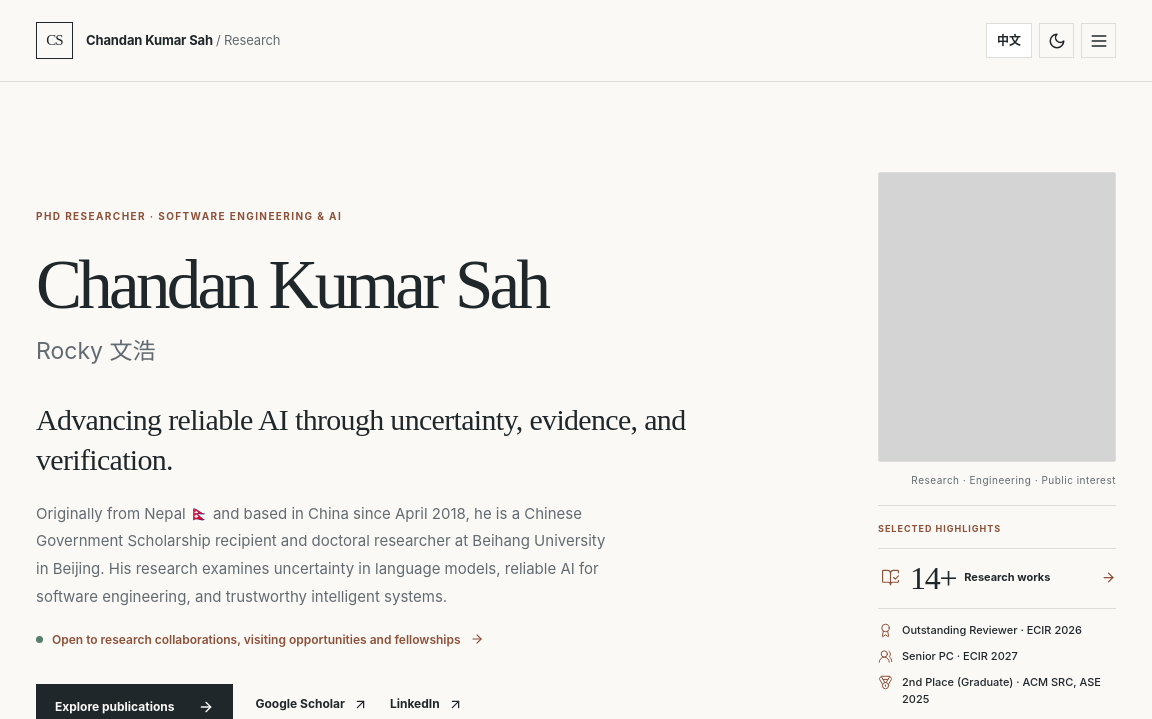
Scenario: Beihang PhD supervision on the academic homepage › shows Chinese faculty names and positions without outbound links
What coordinates should you click on to do the following:
click the button with aria-label "Switch website to Simplified Chinese"
I would click on:
 (1009, 40)
Its box is [986,23,1032,58].
(page scrolled)
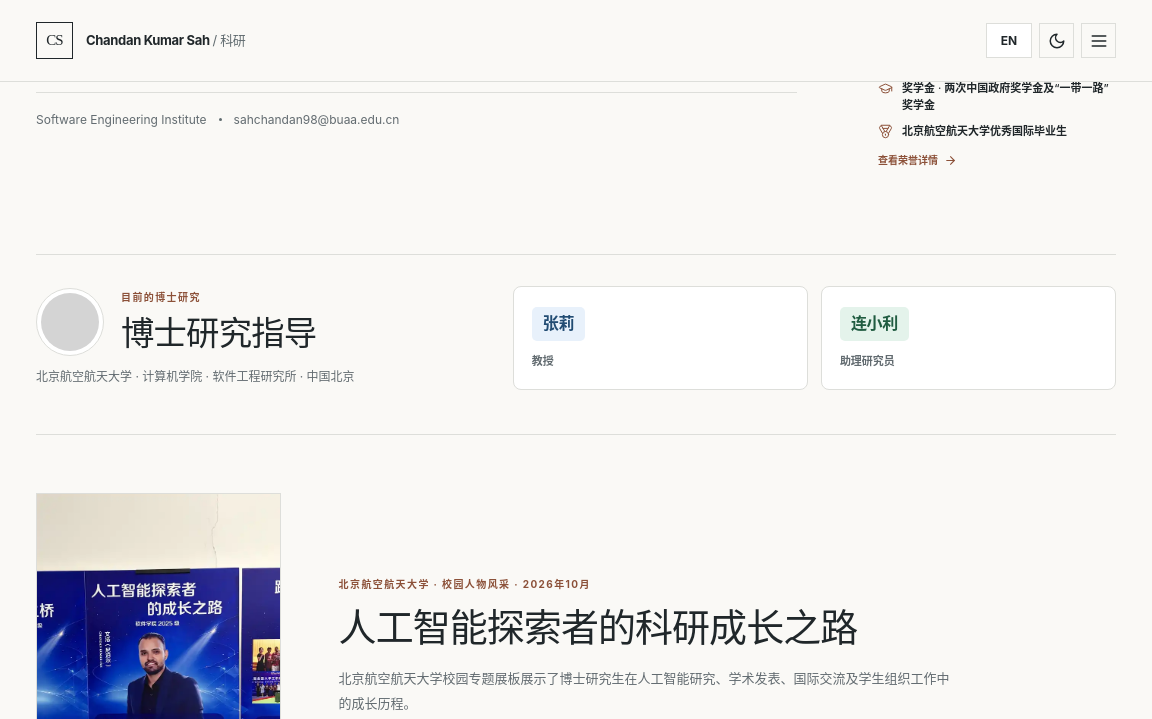
Now the text "目前的博士研究" is shown, box [121,291,201,303]
Now the text "北京航空航天大学 · 计算机学院 · 软件工程研究所 · 中国北京" is shown, box [36,369,355,384]
Now the text "张莉" is shown, box [532,307,585,341]
